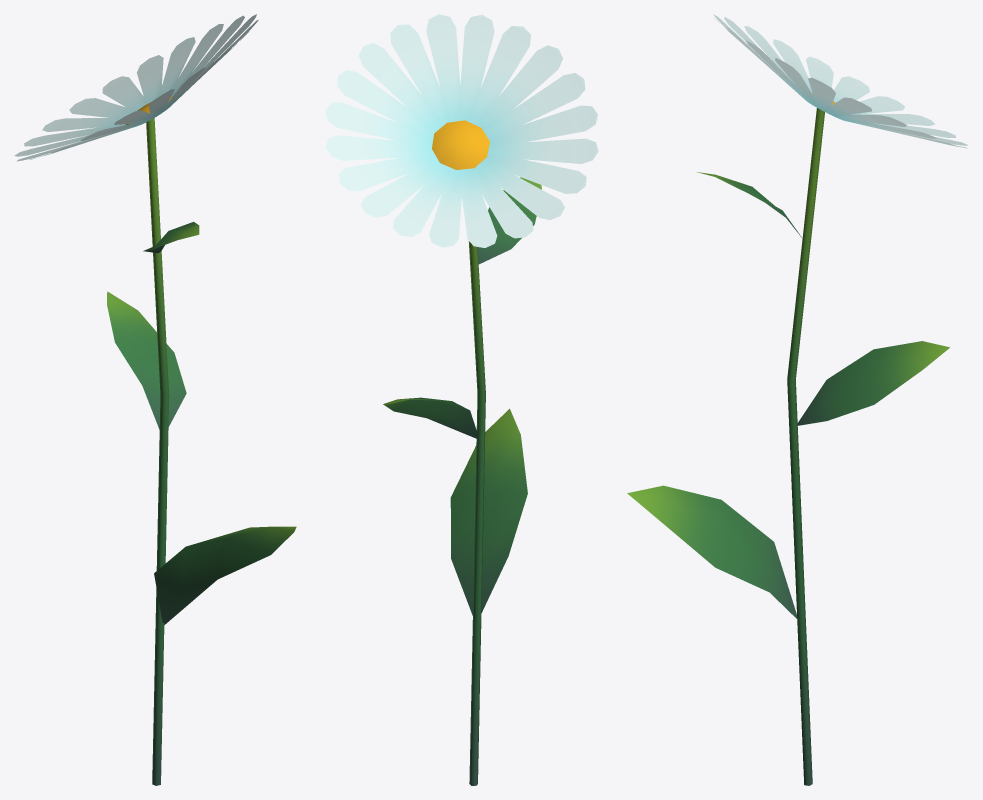
The model's file is Flower_013.fbx.
3 views of the same model, side by side, from view 1: azimuth 30°, elevation 25°; view 2: azimuth 150°, elevation 25°; view 3: azimuth 270°, elevation 25° (orthographic). The views are drawn at different scales.
Parts seen in each view (by area): view 1: Flower.013; view 2: Flower.013; view 3: Flower.013.
Part boxes in pixels (bbox=[...]): Flower.013: bbox=[14, 14, 296, 785]; Flower.013: bbox=[325, 14, 598, 785]; Flower.013: bbox=[627, 14, 967, 785].
Bounding box in the file's own units: 0.7029 × 2.17 × 0.87.
